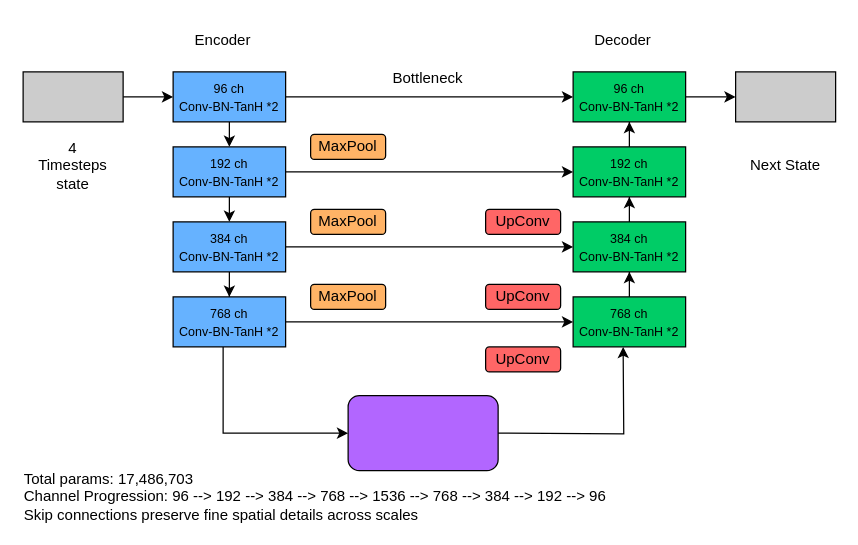
The diagram is 858 pixels wide and 545 high, and some of its shapes have lost their labels. Each missing label, with the centre of its shape:
"1536 ch Bottleneck" belongs at (x=422, y=432).
"Input" belongs at (x=72, y=96).
"Output" belongs at (x=785, y=96).
